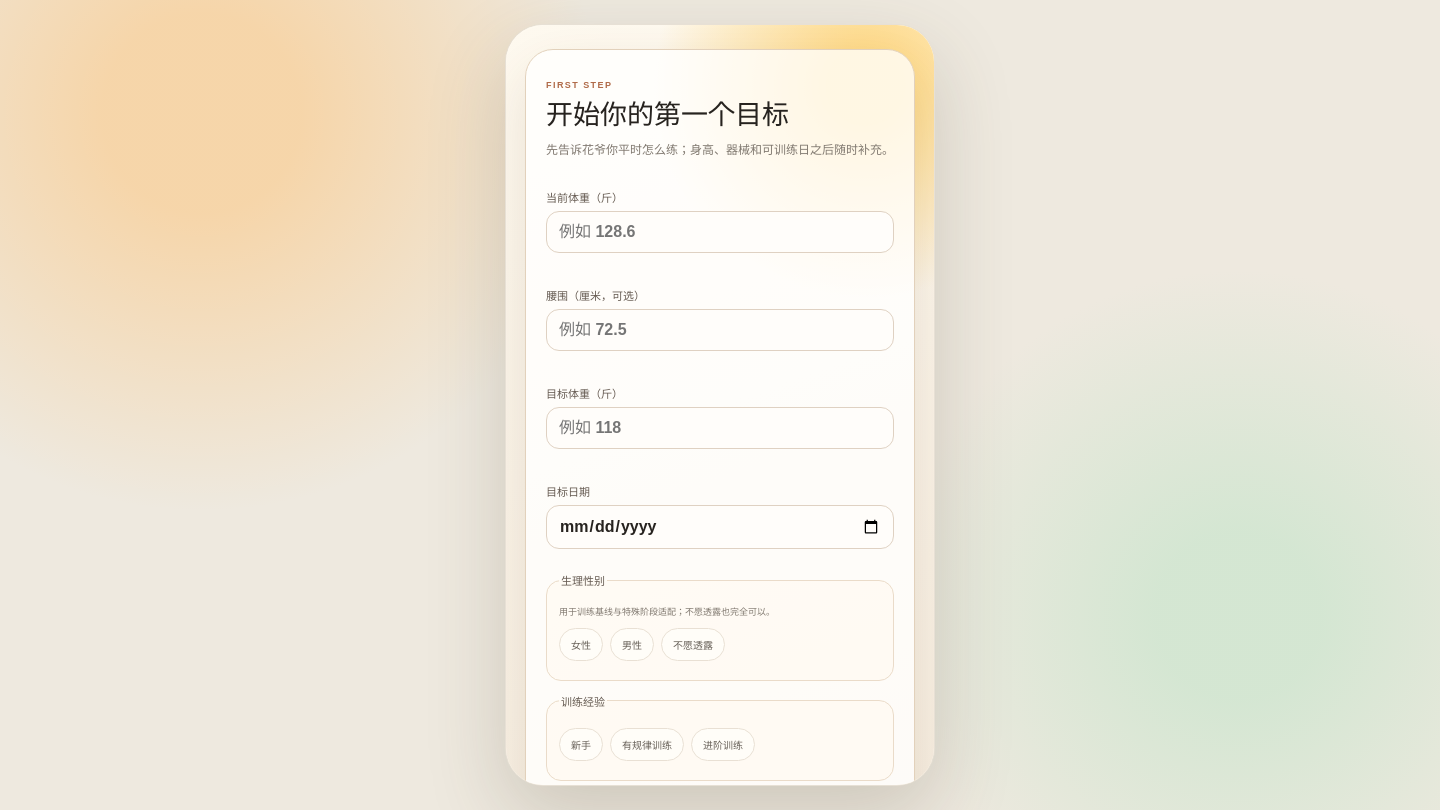
Test: App › shows first setup after bootstrap requires onboarding and reloads the dashboard after submission
The width and height of the screenshot is (1440, 810).
Expected: the heading "开始你的第一个目标" is shown, [546,100,789,130]
In the field labelled "当前体重（斤）": (720, 232) [546,212,894,254], type "128.6"
In the field labelled "目标体重（斤）": (720, 428) [546,408,894,450], type "118"
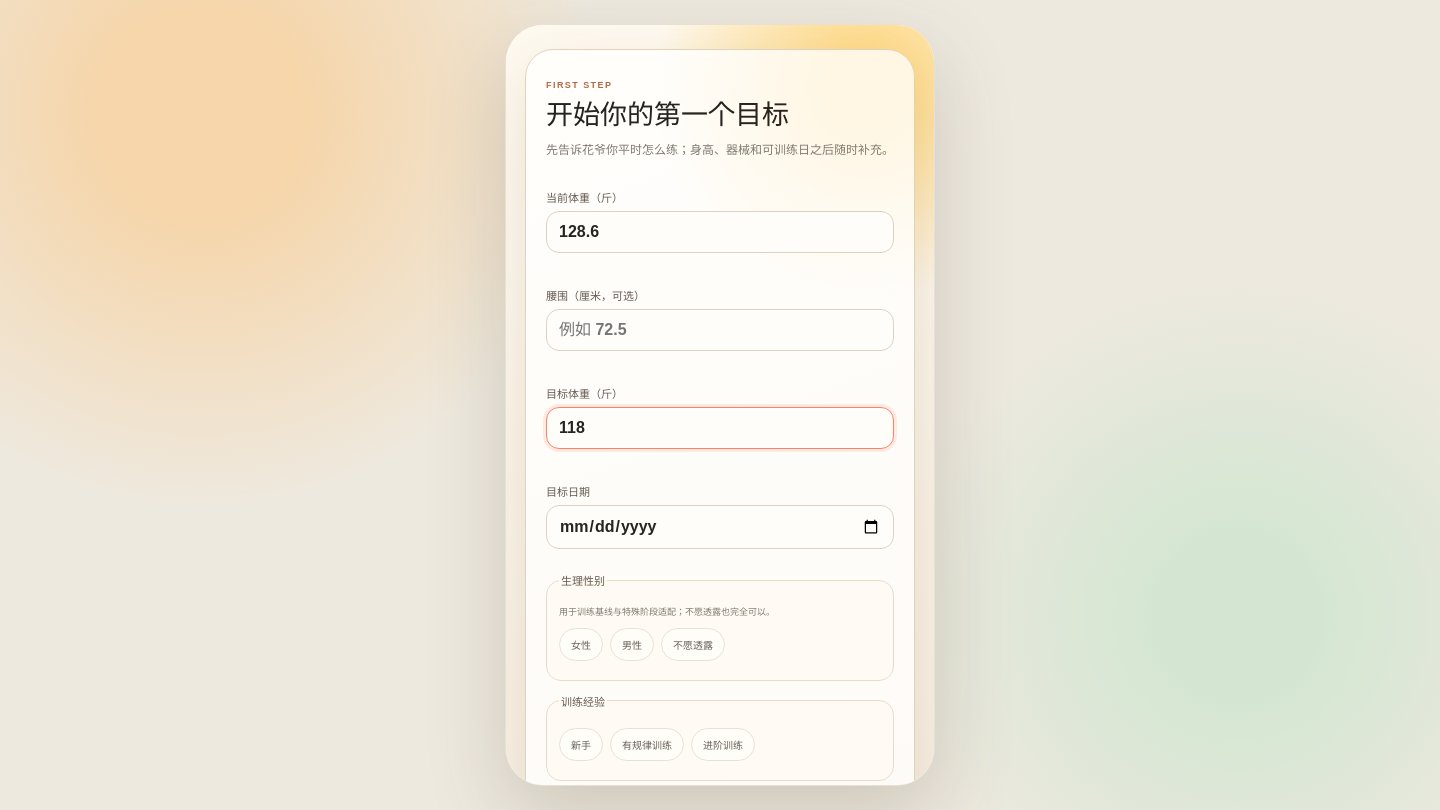
In the date field labelled "目标日期": (720, 528) [546,506,894,550], type "2026-12-31"
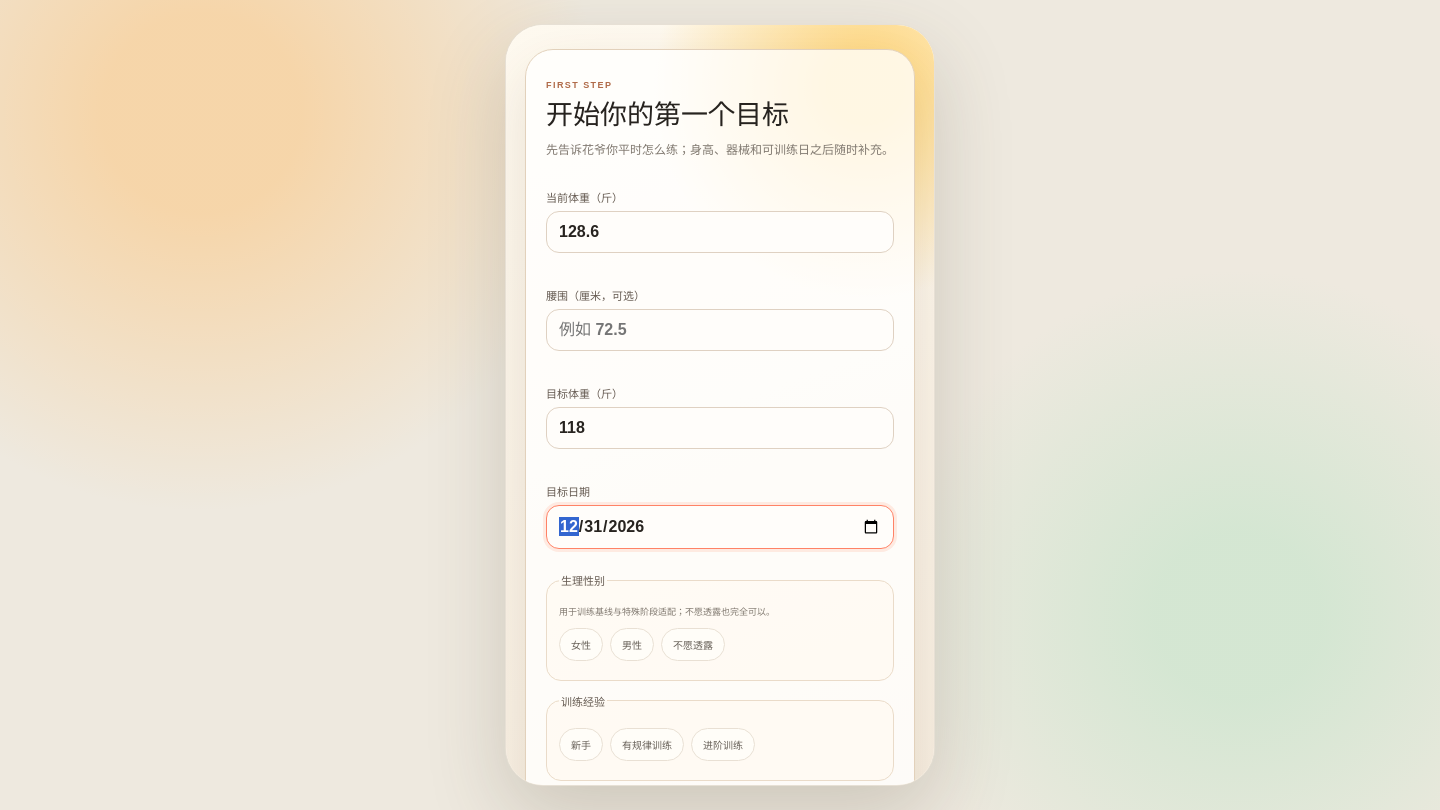
Click the button "女性": (581, 644) [559,628,603,660]
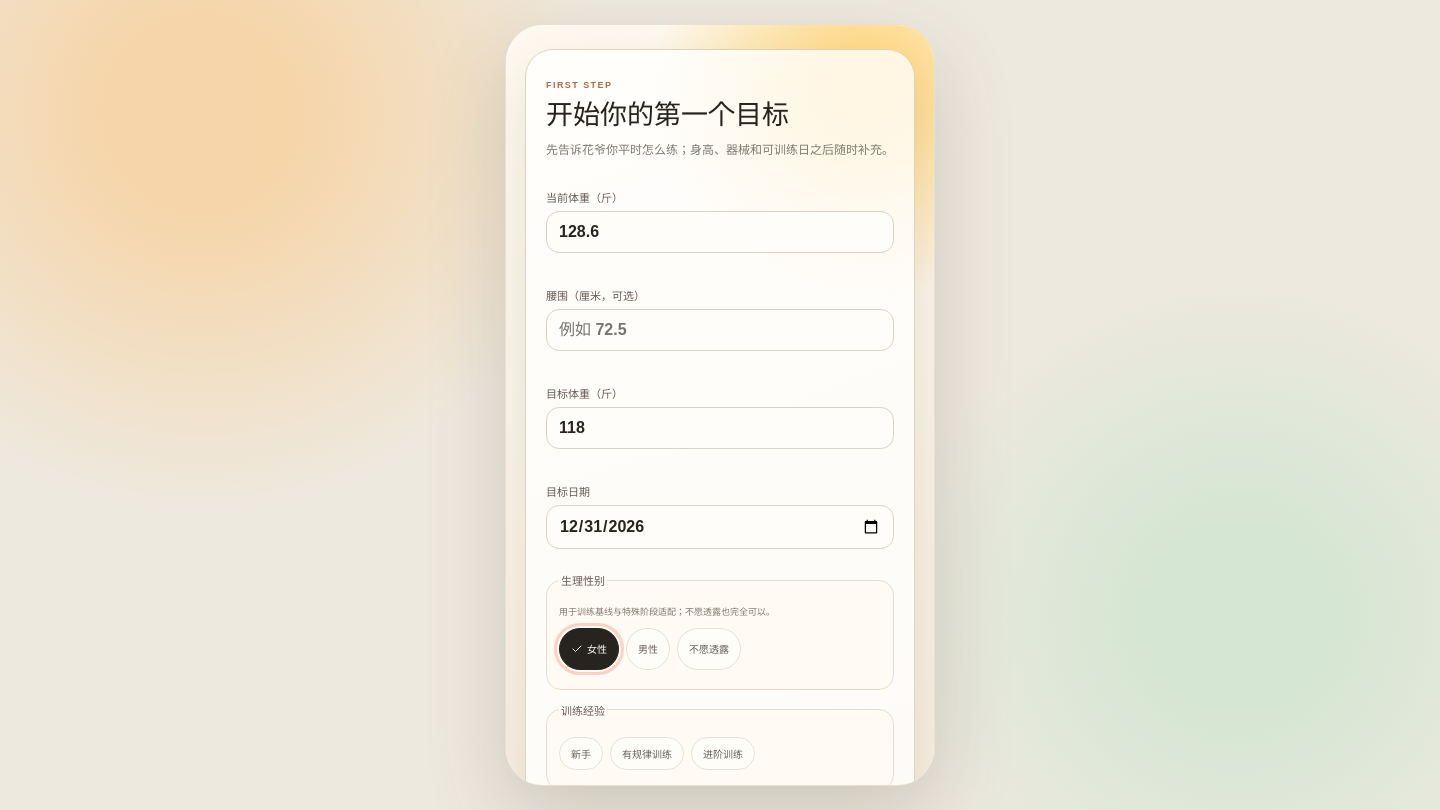
Click the button "新手": (581, 753) [559,736,603,770]
(page scrolled)
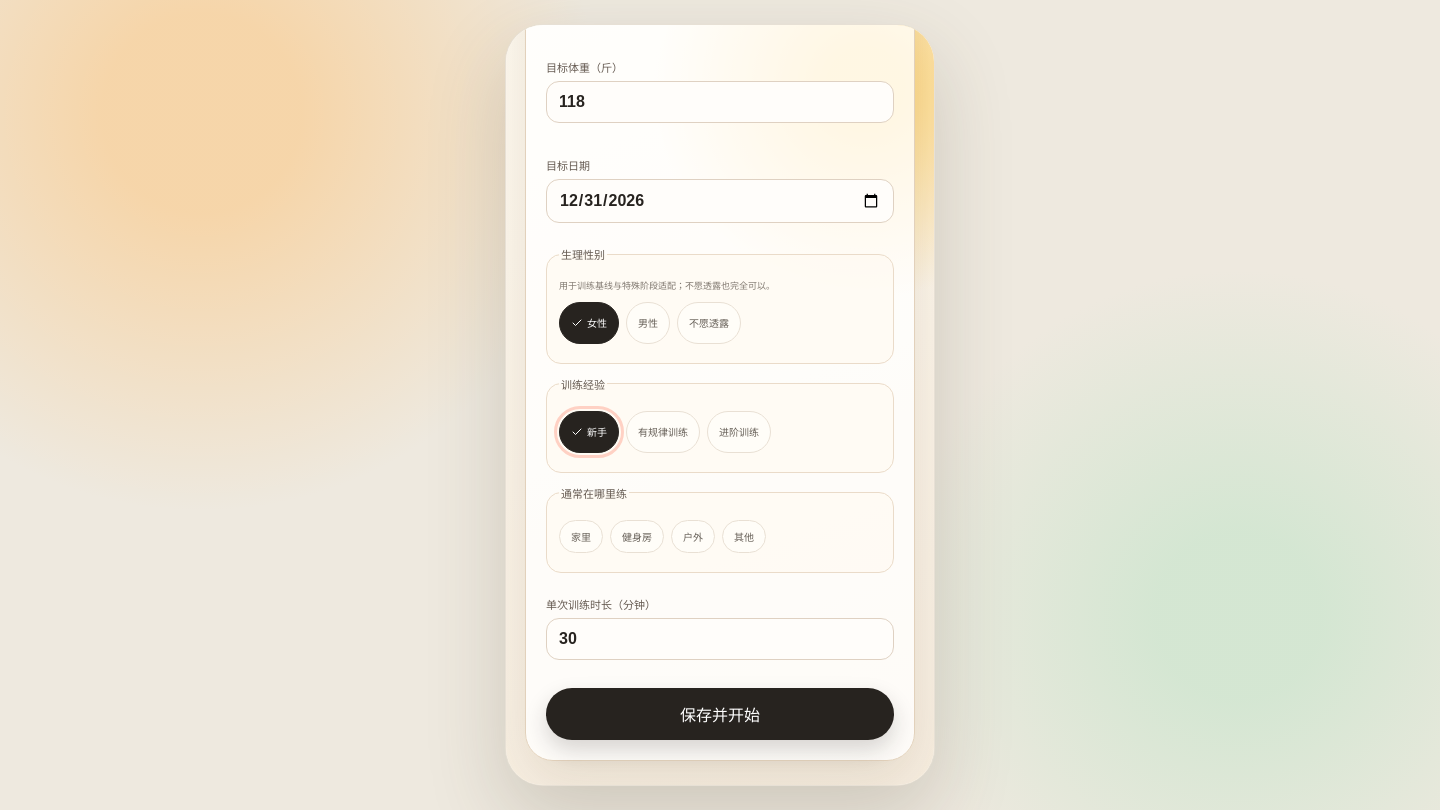
Click the button "家里": (581, 536) [559,520,603,552]
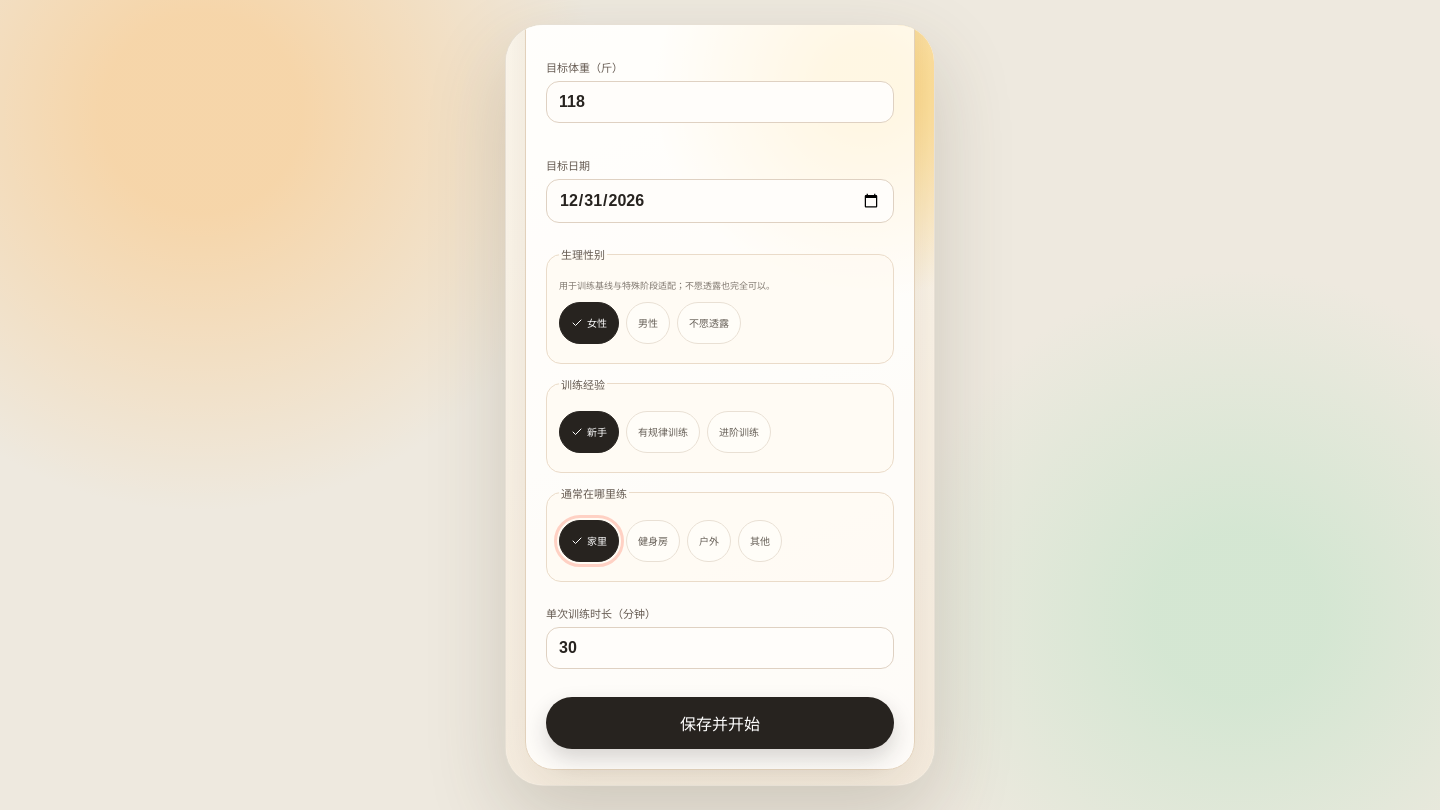
Click the button "保存并开始": (720, 722) [546,696,894,748]
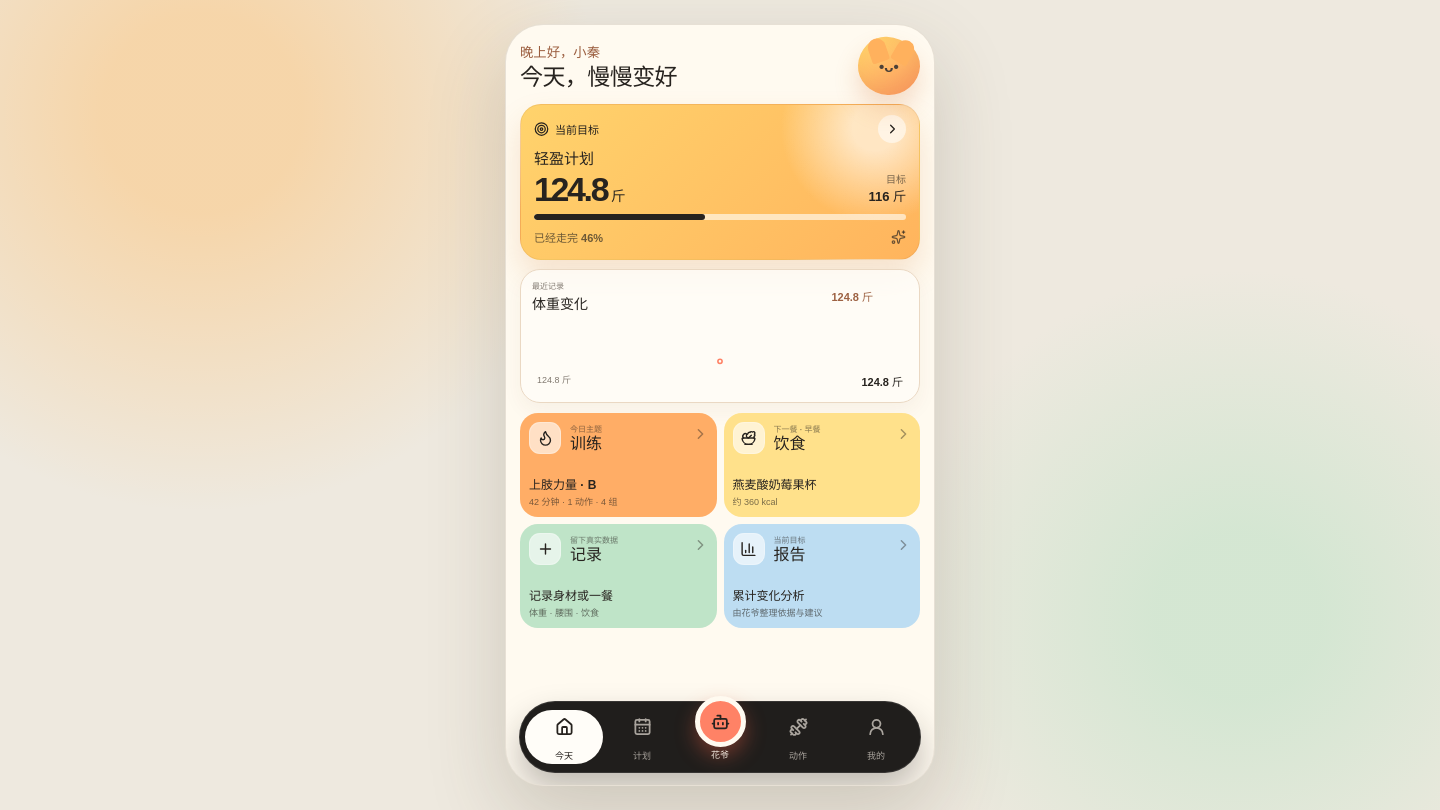
Now the text "124.8" is shown, box [534,170,607,208]
